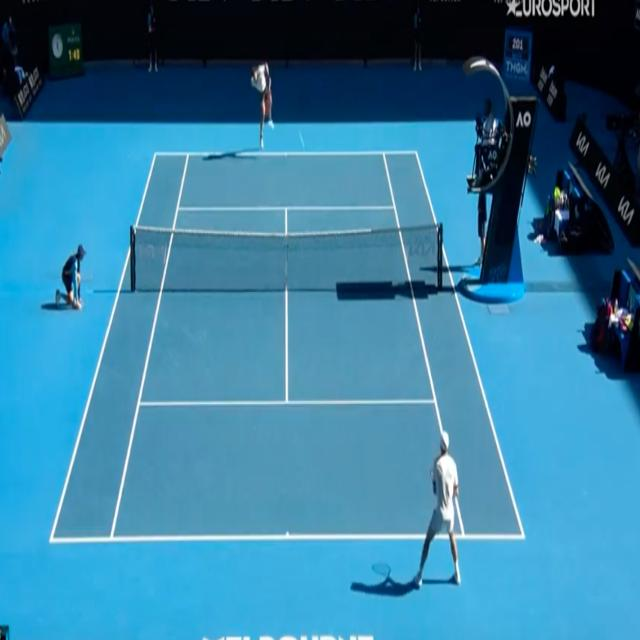ball: (299, 130, 305, 149)
